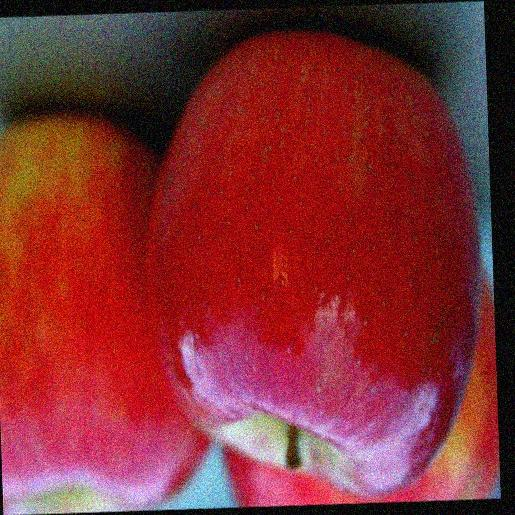red apple: (152, 26, 477, 498)
